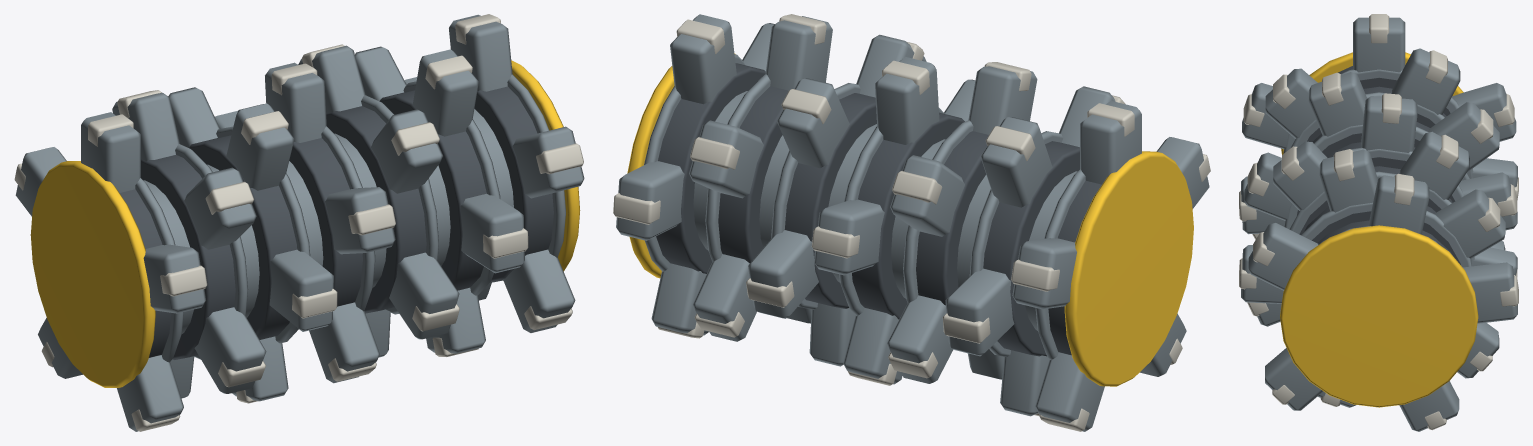
The model's file is SM_CoalCutter.fbx.
3 renders of one model, left to right at view 1: azimuth 30°, elevation 25°; view 2: azimuth 150°, elevation 25°; view 3: azimuth 270°, elevation 25°, orthographic. The views are drawn at different scales.
Visible parts, largest first — view 1: SM_CoalCutter.001; view 2: SM_CoalCutter.001; view 3: SM_CoalCutter.001.
Part boxes in pixels (x1,y1,x2,y2): SM_CoalCutter.001: [14, 14, 584, 431]; SM_CoalCutter.001: [613, 14, 1210, 431]; SM_CoalCutter.001: [1239, 14, 1518, 431].
Bounding box in the file's own units: 124 × 80.5 × 80.55.
